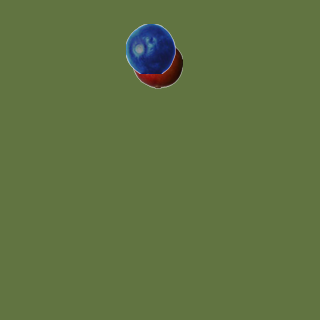Apple Braeburn: (132, 38, 182, 88)
Huckleberry: (125, 23, 175, 73)
